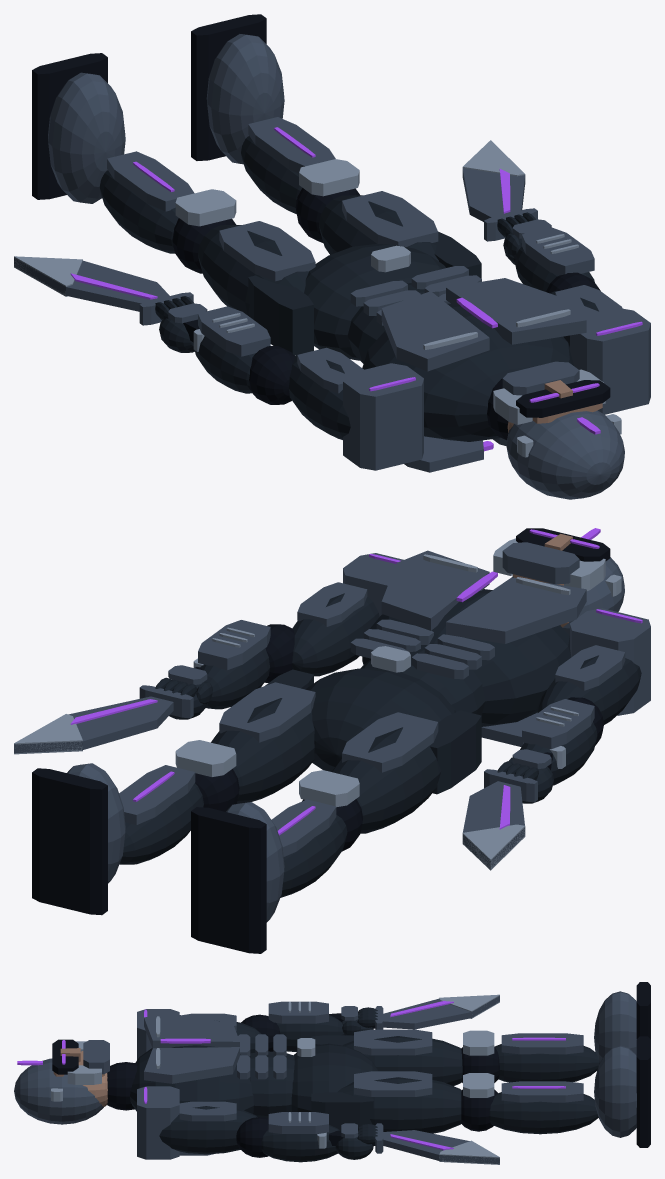
The model's file is Zhaev.obj.
3 views of the same model, one above another, from view 1: azimuth 30°, elevation 25°; view 2: azimuth 150°, elevation 25°; view 3: azimuth 270°, elevation 25° (orthographic). The views are drawn at different scales.
Visible parts, largest first — view 1: Z003_Rib_undersuit, Z011_Crown_outer_shell, Z063_Boot_shell_L, Z048_Shoulder_shell_L, Z096_Boot_shell_R, Z001_Pelvic_undersuit, Z081_Shoulder_shell_R, Z021_Split_cuirass_-1, Z027_Split_cuirass_1, Z064_Boot_sole_L, Z097_Boot_sole_R, Z065_Hip_skirt_panel_L (+34 smaller); view 2: Z064_Boot_sole_L, Z097_Boot_sole_R, Z001_Pelvic_undersuit, Z003_Rib_undersuit, Z021_Split_cuirass_-1, Z089_Trouser_thigh_R, Z056_Trouser_thigh_L, Z027_Split_cuirass_1, Z072_Upper_sleeve_R, Z048_Shoulder_shell_L, Z102_Null_blade_forged_core_R, Z059_Thigh_floating_plate_L (+38 smaller); view 3: Z089_Trouser_thigh_R, Z011_Crown_outer_shell, Z001_Pelvic_undersuit, Z096_Boot_shell_R, Z091_Trouser_calf_R, Z027_Split_cuirass_1, Z058_Trouser_calf_L, Z003_Rib_undersuit, Z072_Upper_sleeve_R, Z081_Shoulder_shell_R, Z056_Trouser_thigh_L, Z021_Split_cuirass_-1 (+43 smaller).
Part boxes in pixels (x1,y1,x2,y2): Z003_Rib_undersuit: (362,303,574,441); Z011_Crown_outer_shell: (506,410,624,499); Z063_Boot_shell_L: (48,72,125,203); Z048_Shoulder_shell_L: (343,363,423,470); Z096_Boot_shell_R: (206,34,284,164); Z001_Pelvic_undersuit: (304,244,445,360); Z081_Shoulder_shell_R: (570,308,650,414); Z021_Split_cuirass_-1: (381,291,489,371); Z027_Split_cuirass_1: (446,278,586,344); Z064_Boot_sole_L: (32,53,107,199); Z097_Boot_sole_R: (191,14,266,160); Z065_Hip_skirt_panel_L: (248,275,313,355); Z064_Boot_sole_L: (191,807,266,953); Z097_Boot_sole_R: (32,768,107,915); Z001_Pelvic_undersuit: (305,668,455,771); Z003_Rib_undersuit: (362,589,571,726); Z021_Split_cuirass_-1: (446,577,586,643); Z089_Trouser_thigh_R: (211,698,314,803); Z056_Trouser_thigh_L: (332,727,441,833); Z027_Split_cuirass_1: (381,550,489,630); Z072_Upper_sleeve_R: (292,593,379,676); Z048_Shoulder_shell_L: (570,608,650,715); Z102_Null_blade_forged_core_R: (14,696,173,753); Z059_Thigh_floating_plate_L: (342,712,438,772); Z089_Trouser_thigh_R: (337,1077,461,1133); Z011_Crown_outer_shell: (14,1058,103,1124); Z001_Pelvic_undersuit: (291,1043,378,1111); Z096_Boot_shell_R: (594,1045,636,1137); Z091_Trouser_calf_R: (489,1092,598,1134); Z027_Split_cuirass_1: (144,1047,239,1083); Z058_Trouser_calf_L: (494,1044,599,1082); Z003_Rib_undersuit: (130,1045,253,1113); Z072_Upper_sleeve_R: (159,1106,257,1154); Z081_Shoulder_shell_R: (137,1086,179,1159); Z056_Trouser_thigh_L: (343,1036,462,1086); Z021_Split_cuirass_-1: (144,1013,239,1048).
Size of the model in its own units: 1.08 by 0.3485 by 1.79.
